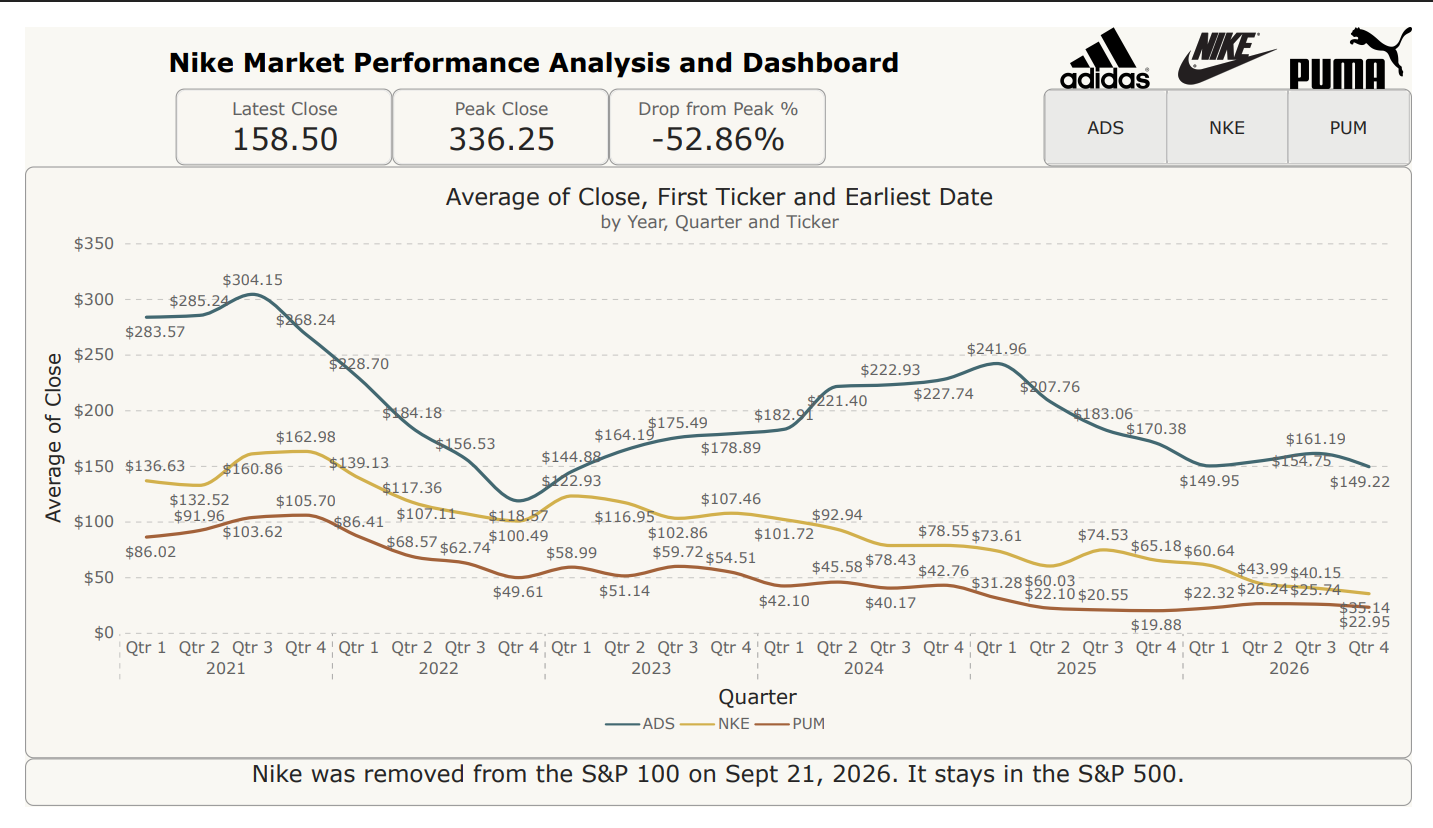

Layout of this report page (visuals, bound fields, positions):
{"tool":"powerbi","page":{"name":"Page 1","canvas":[1280,720],"ordinal":0},"visuals":[{"type":"cardVisual","fields":{"Data":["Prices.Latest Close"]},"box":[138.6,56.3,200,71.2],"z":0},{"type":"cardVisual","fields":{"Data":["Prices.Peak Close"]},"box":[338.9,56.3,200,71.2],"z":1000},{"type":"cardVisual","fields":{"Data":["Prices.Drop from Peak %"]},"box":[539.3,56.3,200,71.2],"z":2000},{"type":"advancedSlicerVisual","fields":{"Values":["Prices.Ticker"]},"box":[940,56.3,340.3,71.4],"z":3000},{"type":"lineChart","fields":{"Category":["Prices.Date.Variation.Date Hierarchy.Year","Prices.Date.Variation.Date Hierarchy.Quarter","Prices.Date.Variation.Date Hierarchy.Month","Prices.Date.Variation.Date Hierarchy.Day"],"Series":["Prices.Ticker"],"Y":["Avg(Prices.Close)"]},"box":[0,127.6,1279.8,547.2],"z":4000},{"type":"textbox","box":[0,674.9,1279.8,44.2],"z":5000},{"type":"textbox","box":[0,0,939.9,56.4],"z":6000},{"type":"image","box":[1052.5,0,115.3,56.4],"z":7000},{"type":"image","box":[941.1,0,111.7,56.4],"z":8000},{"type":"image","box":[1168.1,0,111.7,56.4],"z":9000}]}

Visuals, with their boxes in screenshot pixels (x1, y1, x2, y2), scaled from the page's 1280x720 canvas onto the 1433x828 screenshot:
cardVisual - Prices.Latest Close: [x1=155, y1=65, x2=379, y2=147]
cardVisual - Prices.Peak Close: [x1=379, y1=65, x2=603, y2=147]
cardVisual - Prices.Drop from Peak %: [x1=604, y1=65, x2=828, y2=147]
advancedSlicerVisual - Prices.Ticker: [x1=1052, y1=65, x2=1432, y2=147]
lineChart - Prices.Date.Variation.Date Hierarchy.Year x Prices.Date.Variation.Date Hierarchy.Quarter: [x1=0, y1=147, x2=1432, y2=776]
textbox: [x1=0, y1=776, x2=1432, y2=827]
textbox: [x1=0, y1=0, x2=1052, y2=65]
image: [x1=1178, y1=0, x2=1307, y2=65]
image: [x1=1054, y1=0, x2=1179, y2=65]
image: [x1=1308, y1=0, x2=1432, y2=65]
